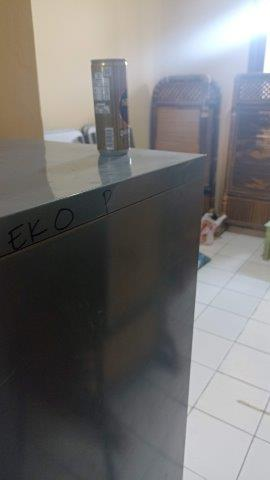kaleng: (92, 58, 131, 157)
